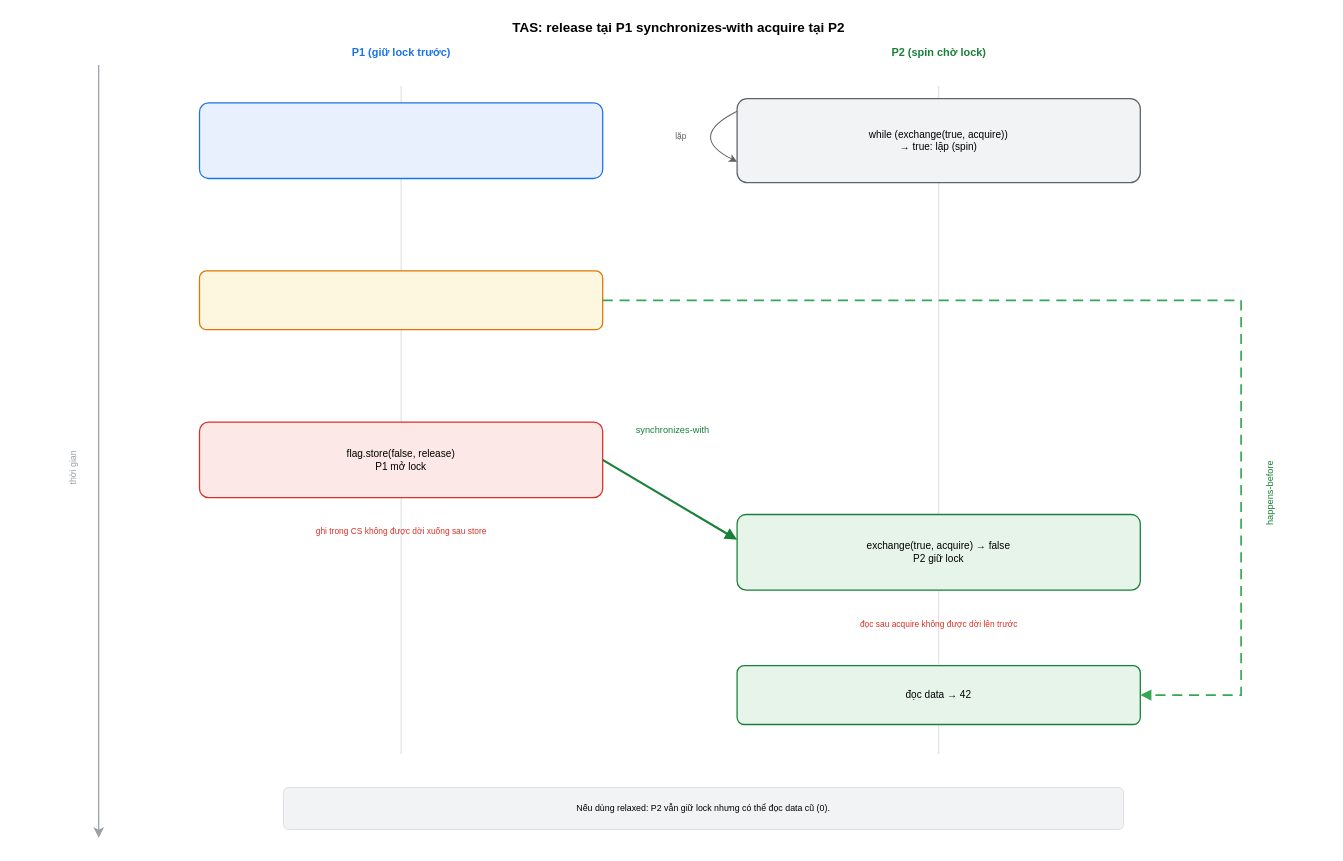
Some shapes in this 1343 by 861 pixel diagram are drawn without their labels. Here are the shapes that lost their labels. From the top down, the centre of each, then its label:
(400,140): exchange(true, acquire) → false P1 giữ lock
(400,300): data = 42 (ghi thường)
